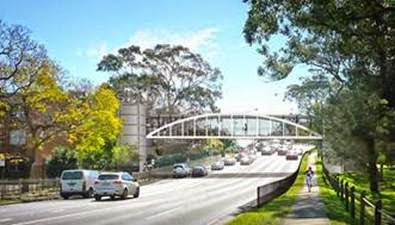bridge: (118, 102, 329, 141)
